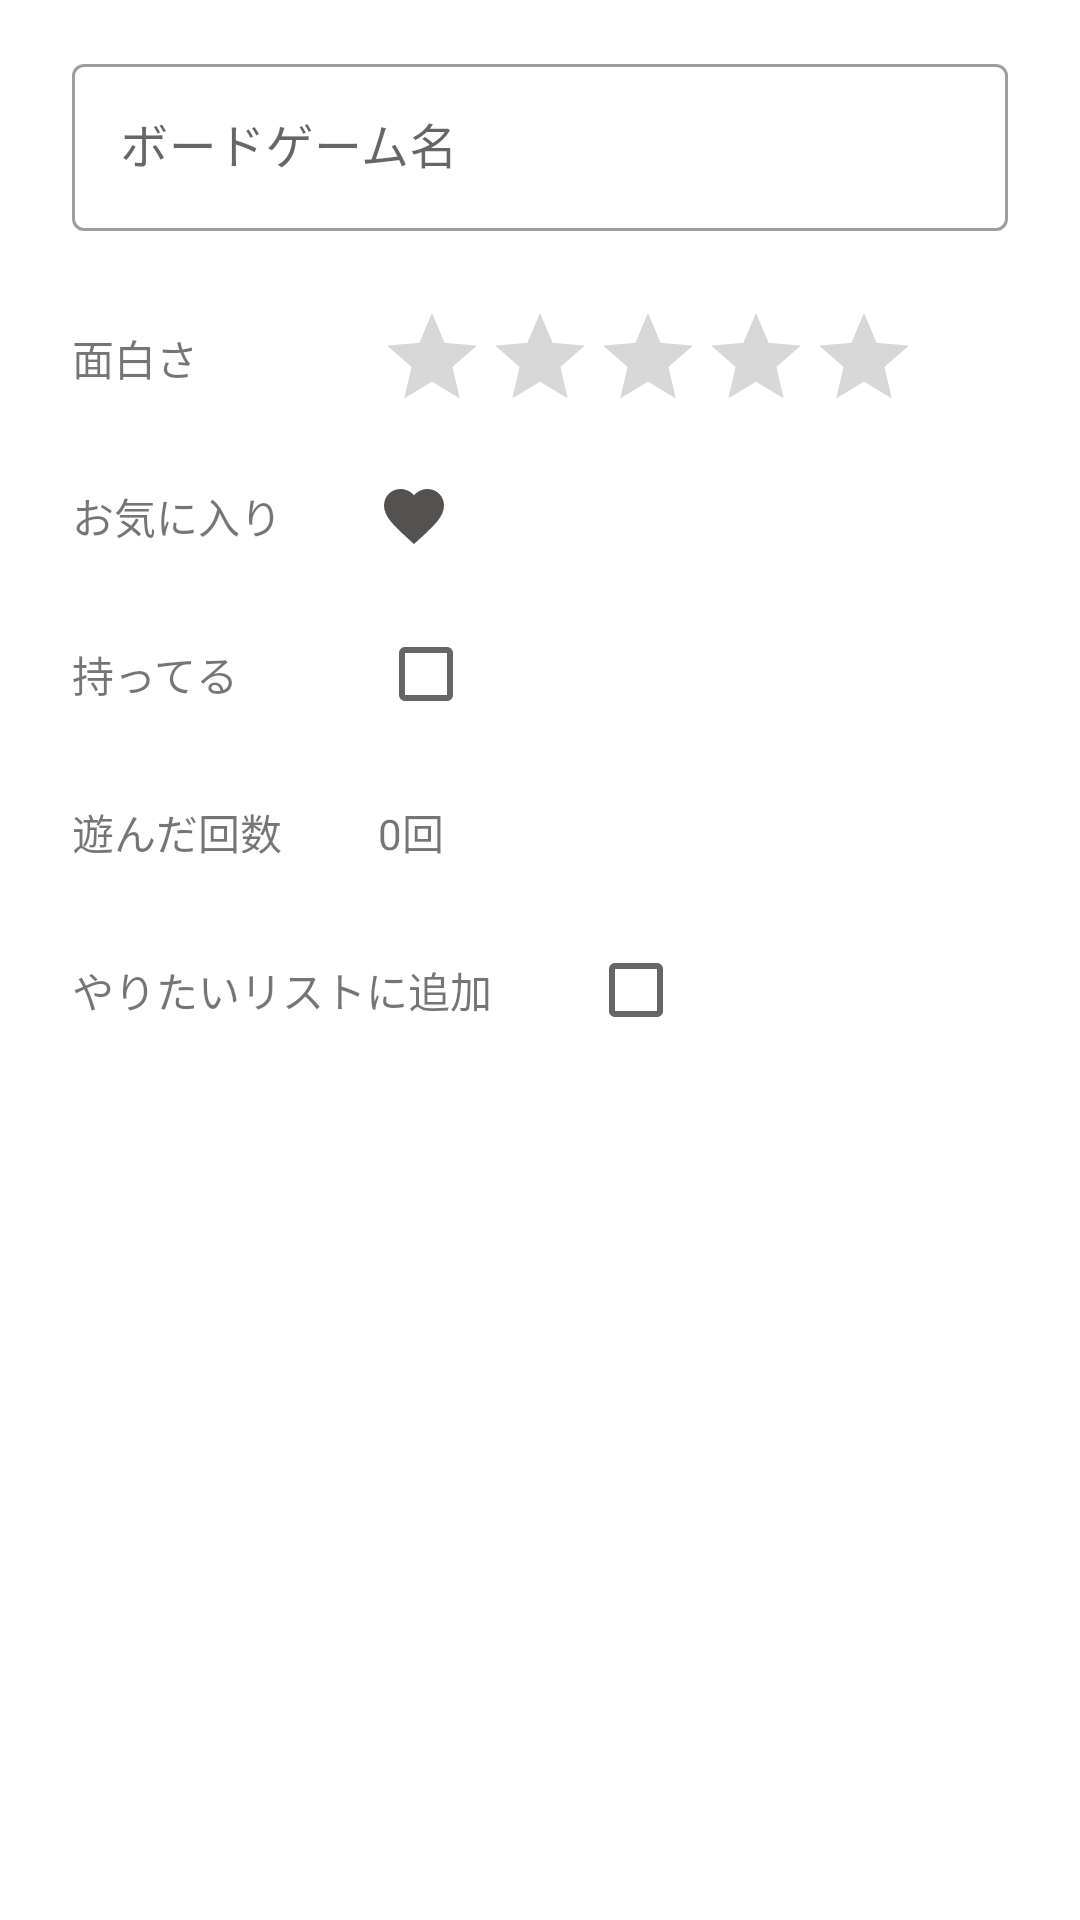

Icons on this 1080×1920 Android screen, each with its box as (x1, y1, x2, y2):
checkbox favorite layout: (384, 489, 444, 544)
